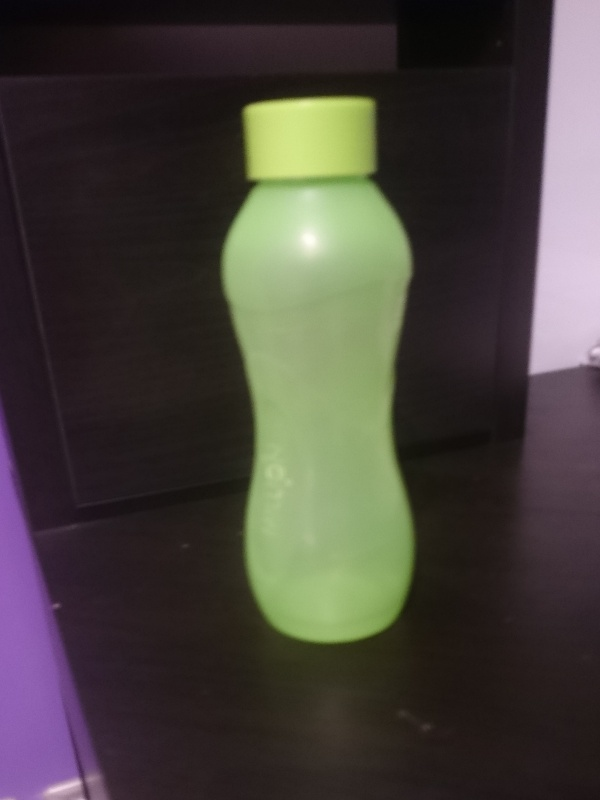my bottle: (221, 96, 414, 643)
